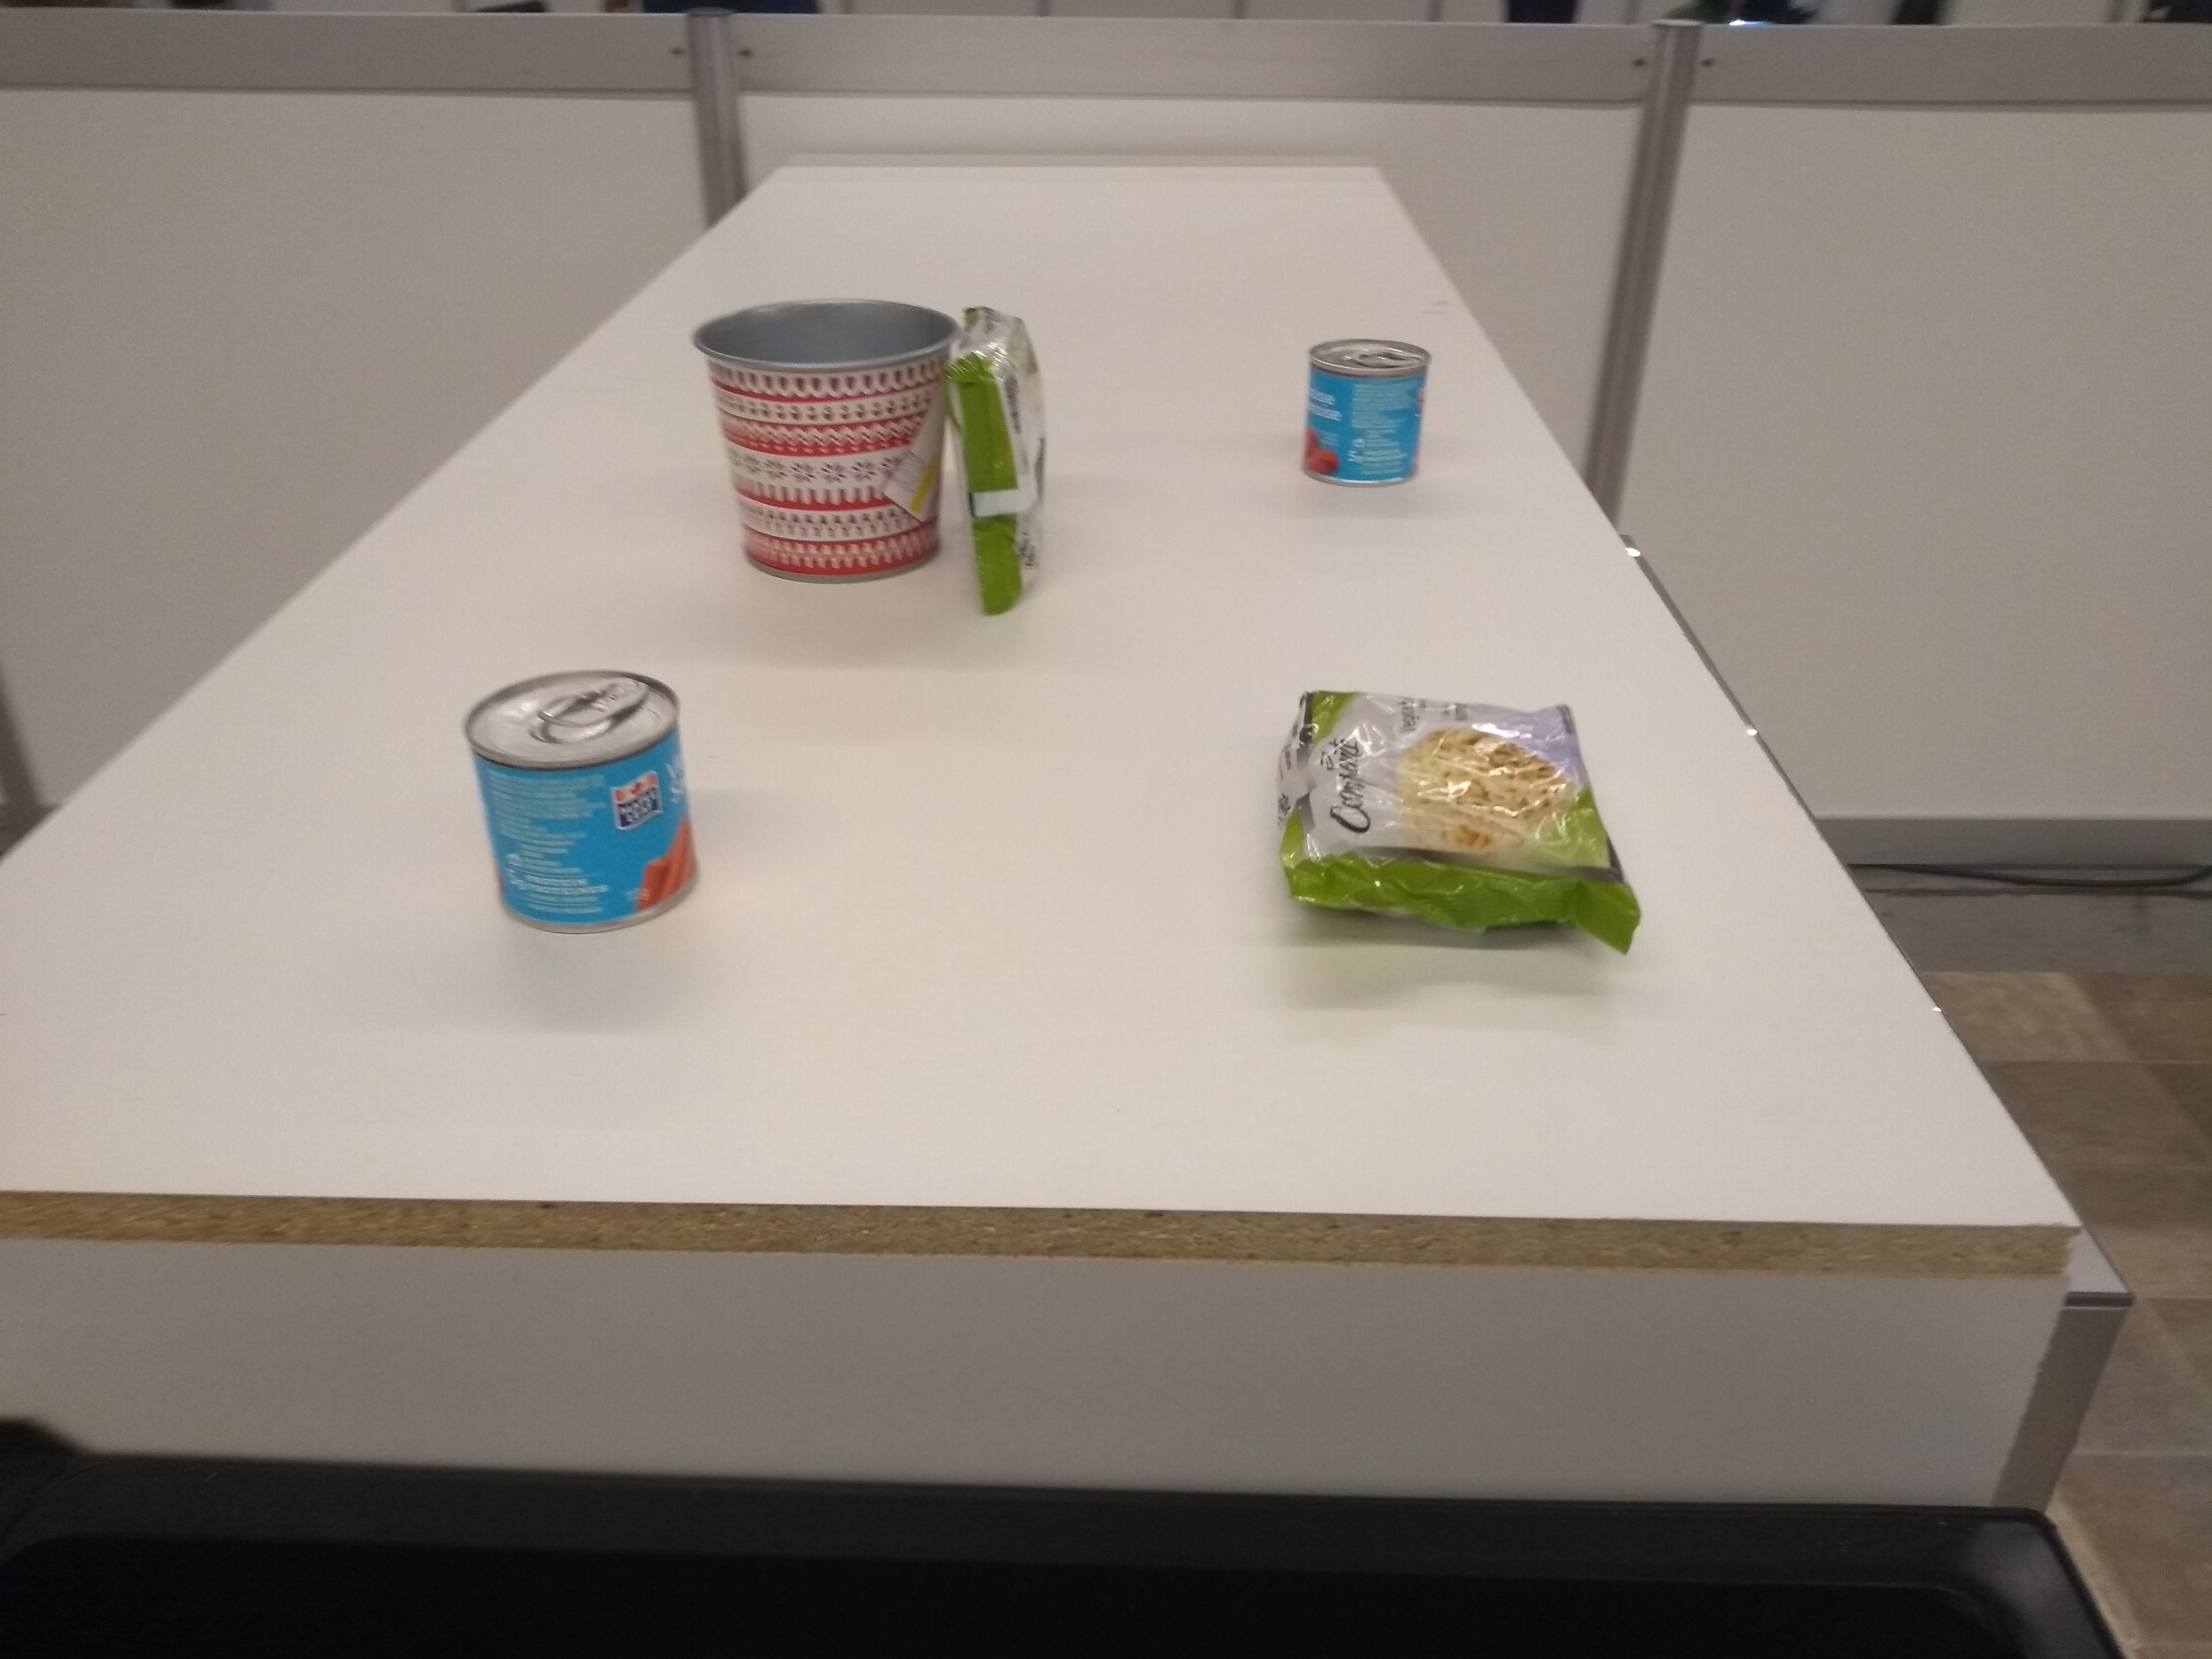noodles: (1254, 667, 1667, 962), (934, 289, 1075, 629)
sausages: (455, 657, 716, 943), (1285, 331, 1440, 493)
